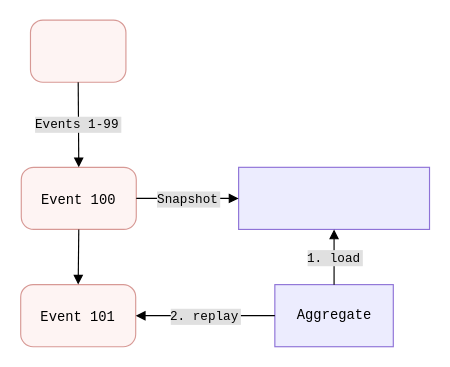
This 450x367 diagram has some shape labels left out. Each missing label, with the box of its shape:
Event 0: (29, 19, 126, 82)
Snapshot Store: (237, 166, 430, 229)
